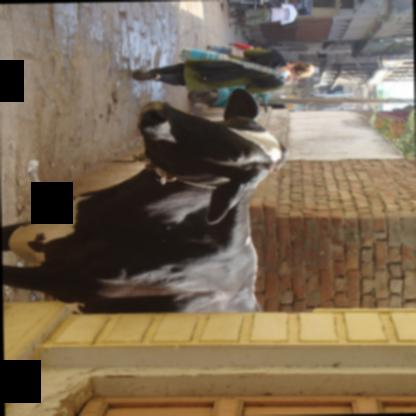handbag: (176, 46, 289, 79)
